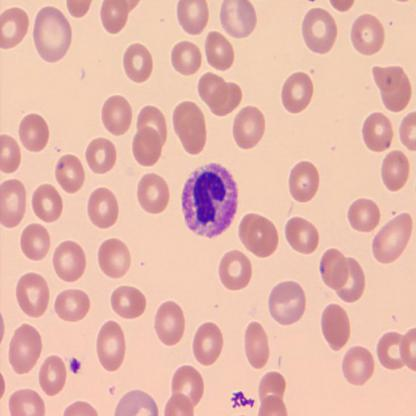Band Neutrophil: (179, 160, 240, 240)
